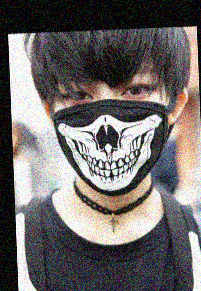with_mask: (50, 62, 169, 198)
